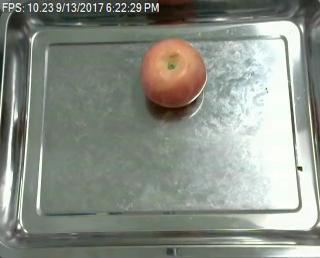apple: (140, 38, 207, 107)
